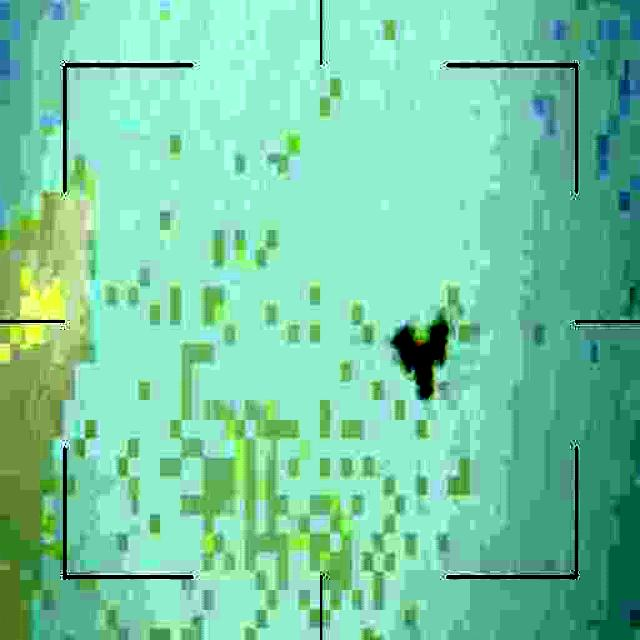bird: (391, 316, 451, 402)
